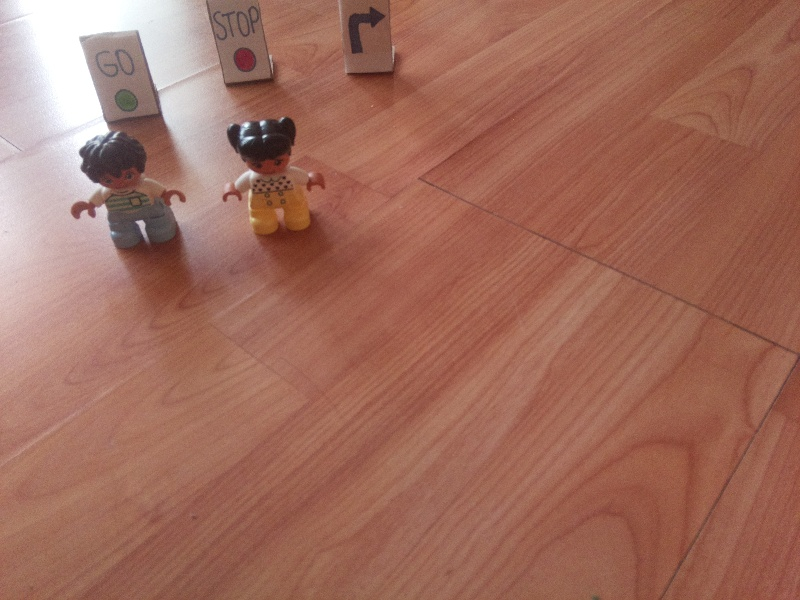go: (95, 48, 142, 111)
person: (67, 136, 191, 249), (216, 119, 325, 235)
stop: (212, 7, 265, 76)
turn right: (347, 6, 387, 60)
